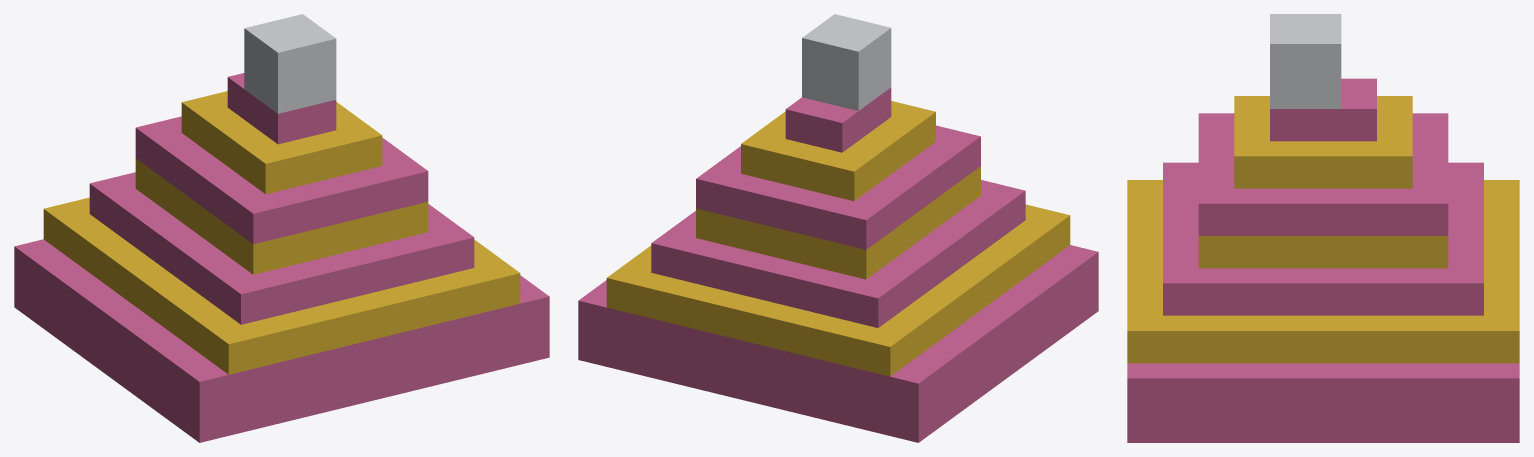
File: gear_fest_helmet.glb
3 views of the same model, side by side, from view 1: azimuth 30°, elevation 25°; view 2: azimuth 150°, elevation 25°; view 3: azimuth 270°, elevation 25° (orthographic). The views are drawn at different scales.
Visible parts, largest first — view 1: body; view 2: body; view 3: body.
Part boxes in pixels (x1,y1,x2,y2): body: (14, 14, 549, 442); body: (578, 14, 1098, 442); body: (1127, 14, 1519, 442).
Size of the model in its own units: 0.72 by 0.6 by 0.66.
